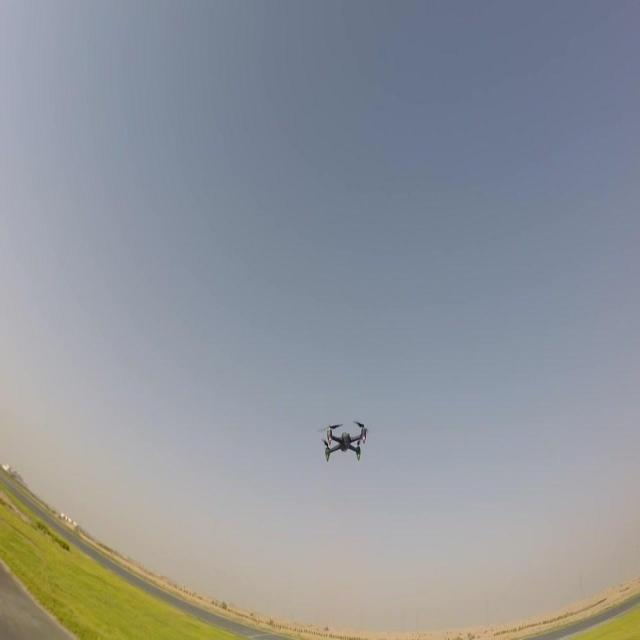UAV: (316, 420, 370, 462)
